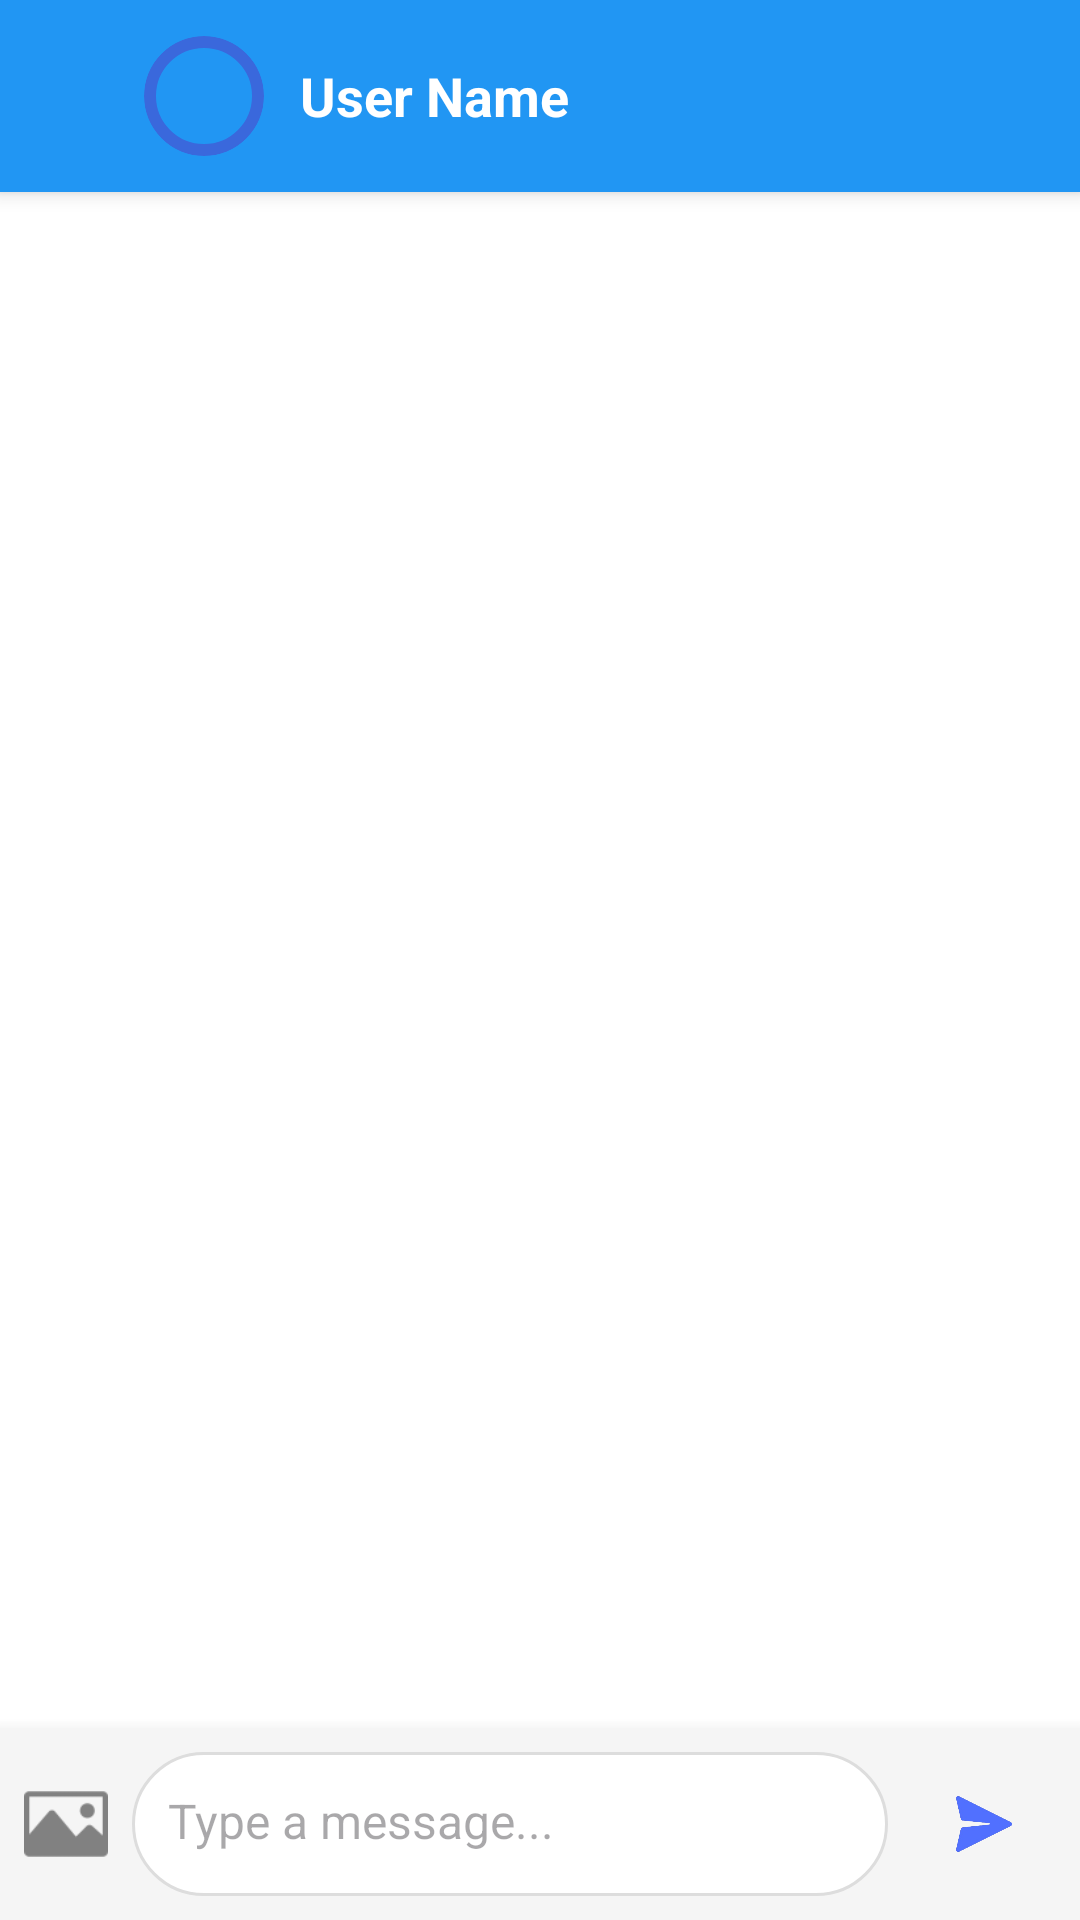

Icon click points for this 1080 × 1920 phone screenshot, format (x=x, y=y):
Send message: (x=984, y=1824)
Upload image: (x=66, y=1824)
